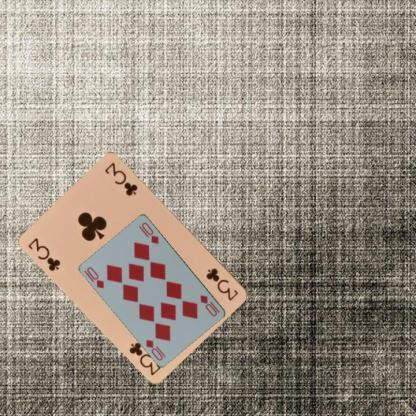10d: (198, 292, 221, 317), (84, 264, 106, 290)
3c: (25, 235, 62, 272), (204, 265, 240, 302)
